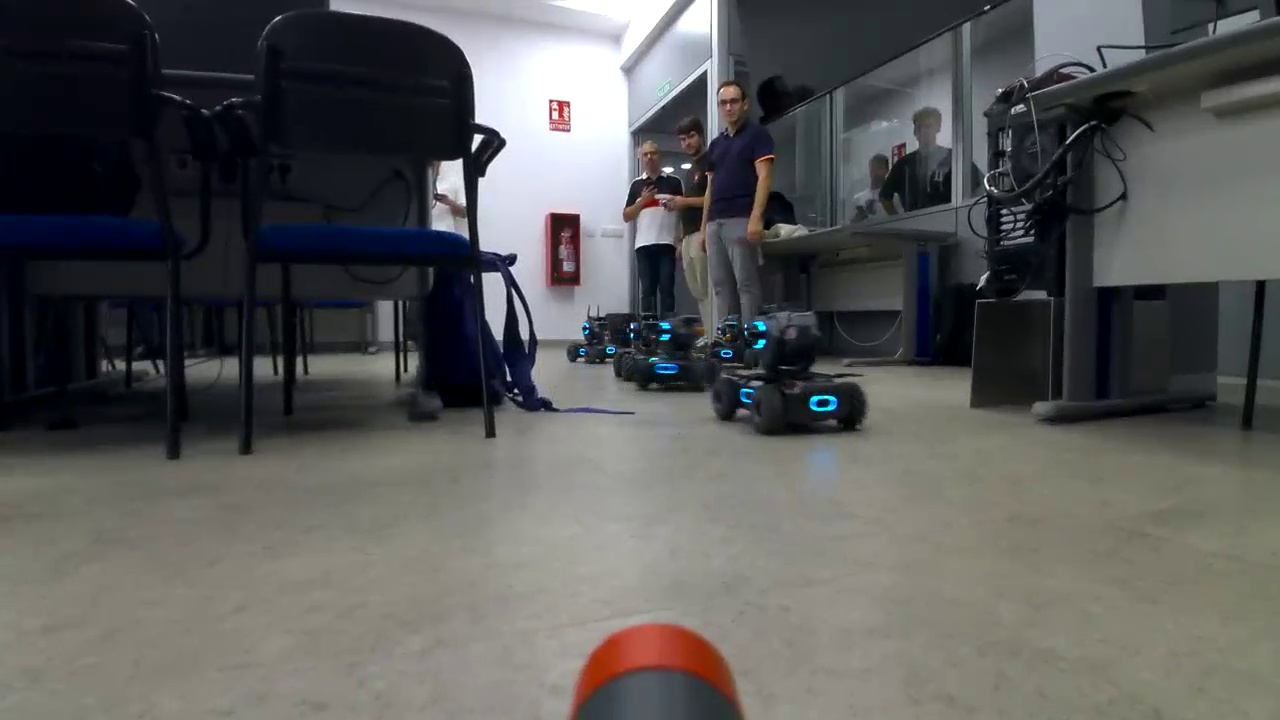robot: (715, 305, 875, 441), (634, 316, 724, 390), (564, 314, 628, 368), (616, 314, 660, 385), (708, 317, 756, 367)
